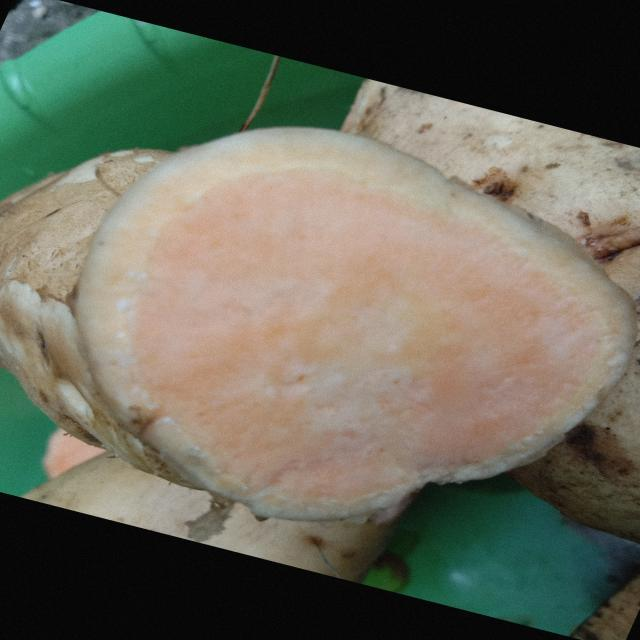Healthy Sweet Potato: (77, 128, 635, 520)
